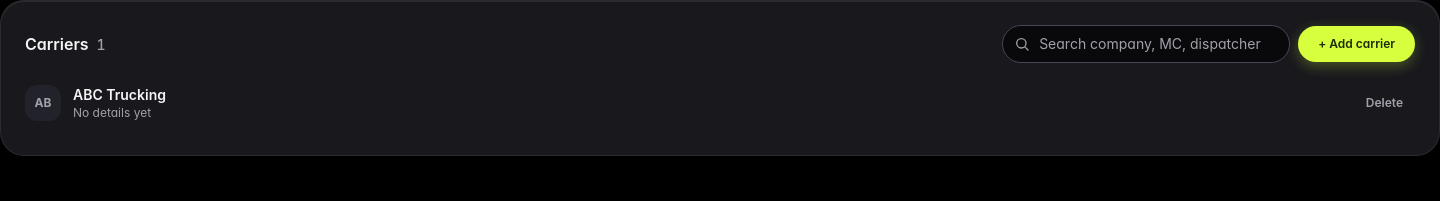
Test case: CarriersPanel › deleting a carrier requires confirmation, then removes it from the list
The image size is (1440, 201).
Expected: the text "ABC Trucking" is shown, [73,85,166,105]
Click the button with aria-label "delete abc trucking": point(1384, 103) [1354,91,1415,115]
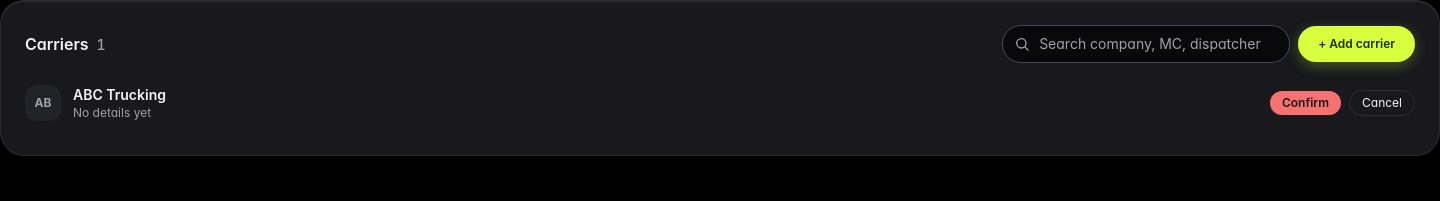
Click the button "Confirm": point(1306, 103) [1270,91,1341,115]
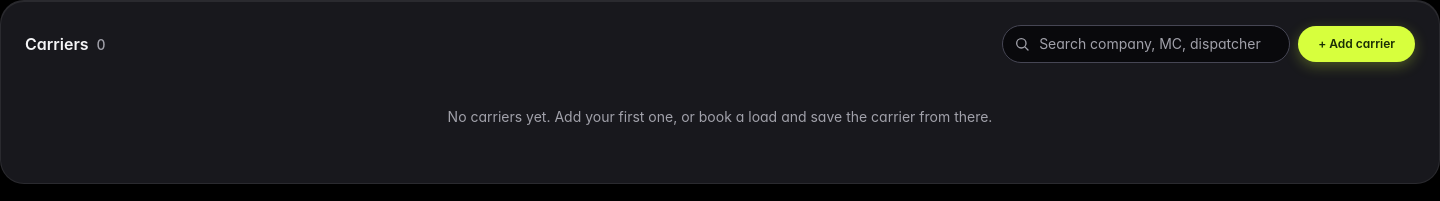
Result: the button "ABC Trucking" is gone
